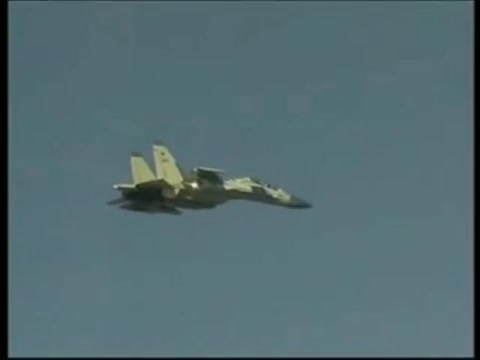aeroplane: (107, 137, 316, 216)
